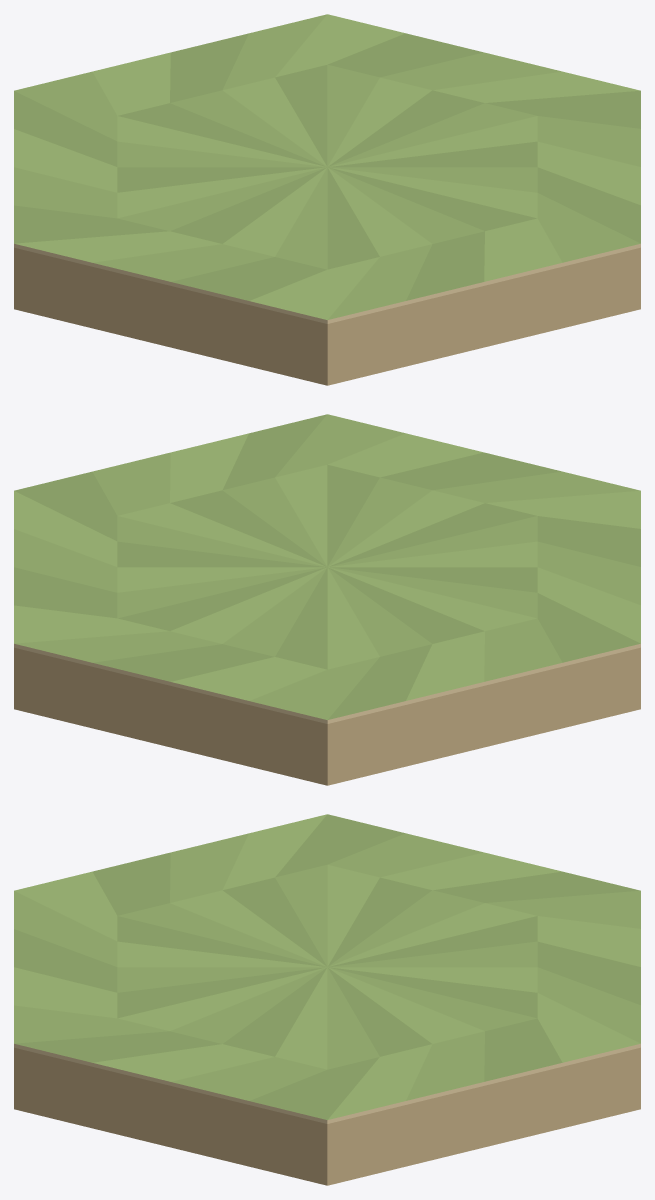
File: terrain.glb
The picture shows the model from 3 angles, top to bottom: view 1: azimuth 30°, elevation 25°; view 2: azimuth 150°, elevation 25°; view 3: azimuth 270°, elevation 25°; orthographic projection.
Visible parts, largest first — view 1: Tile_狮鹫岩; view 2: Tile_狮鹫岩; view 3: Tile_狮鹫岩.
Part boxes in pixels (bbox=[...]): Tile_狮鹫岩: bbox=[14, 14, 640, 385]; Tile_狮鹫岩: bbox=[14, 414, 640, 785]; Tile_狮鹫岩: bbox=[14, 814, 640, 1185].
Bounding box in the file's own units: 2 × 0.2 × 1.73.
